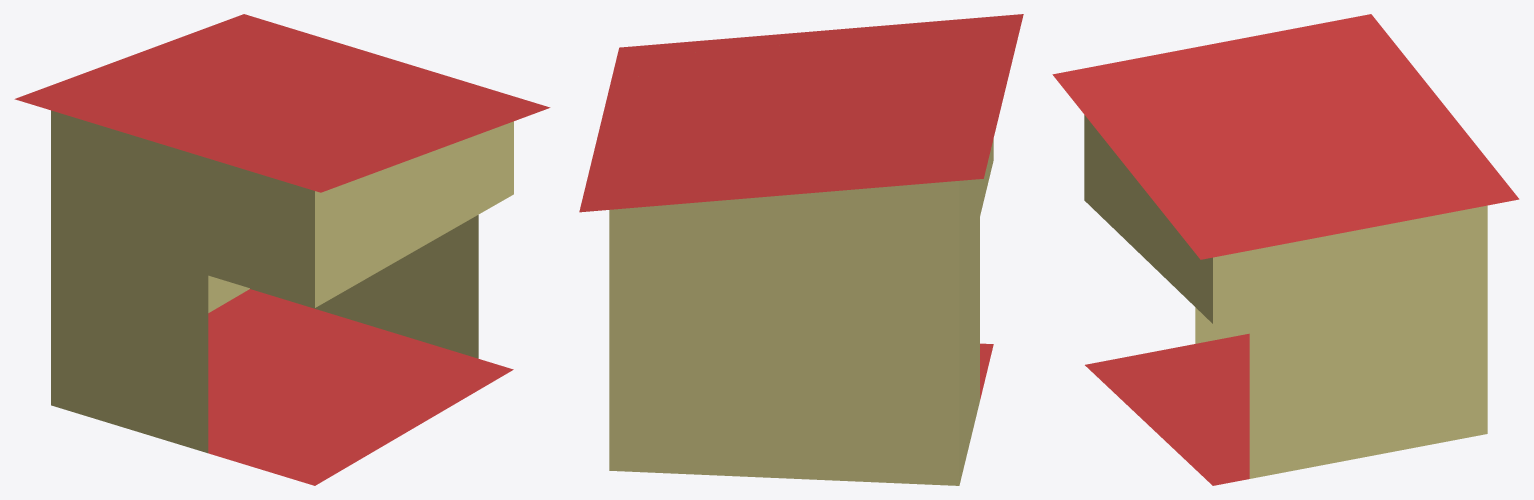
3 views of the same model, side by side, from view 1: azimuth 30°, elevation 25°; view 2: azimuth 150°, elevation 25°; view 3: azimuth 270°, elevation 25° (orthographic). The views are drawn at different scales.
Size of the model in its own units: 14.59 by 14.39 by 9.69.
